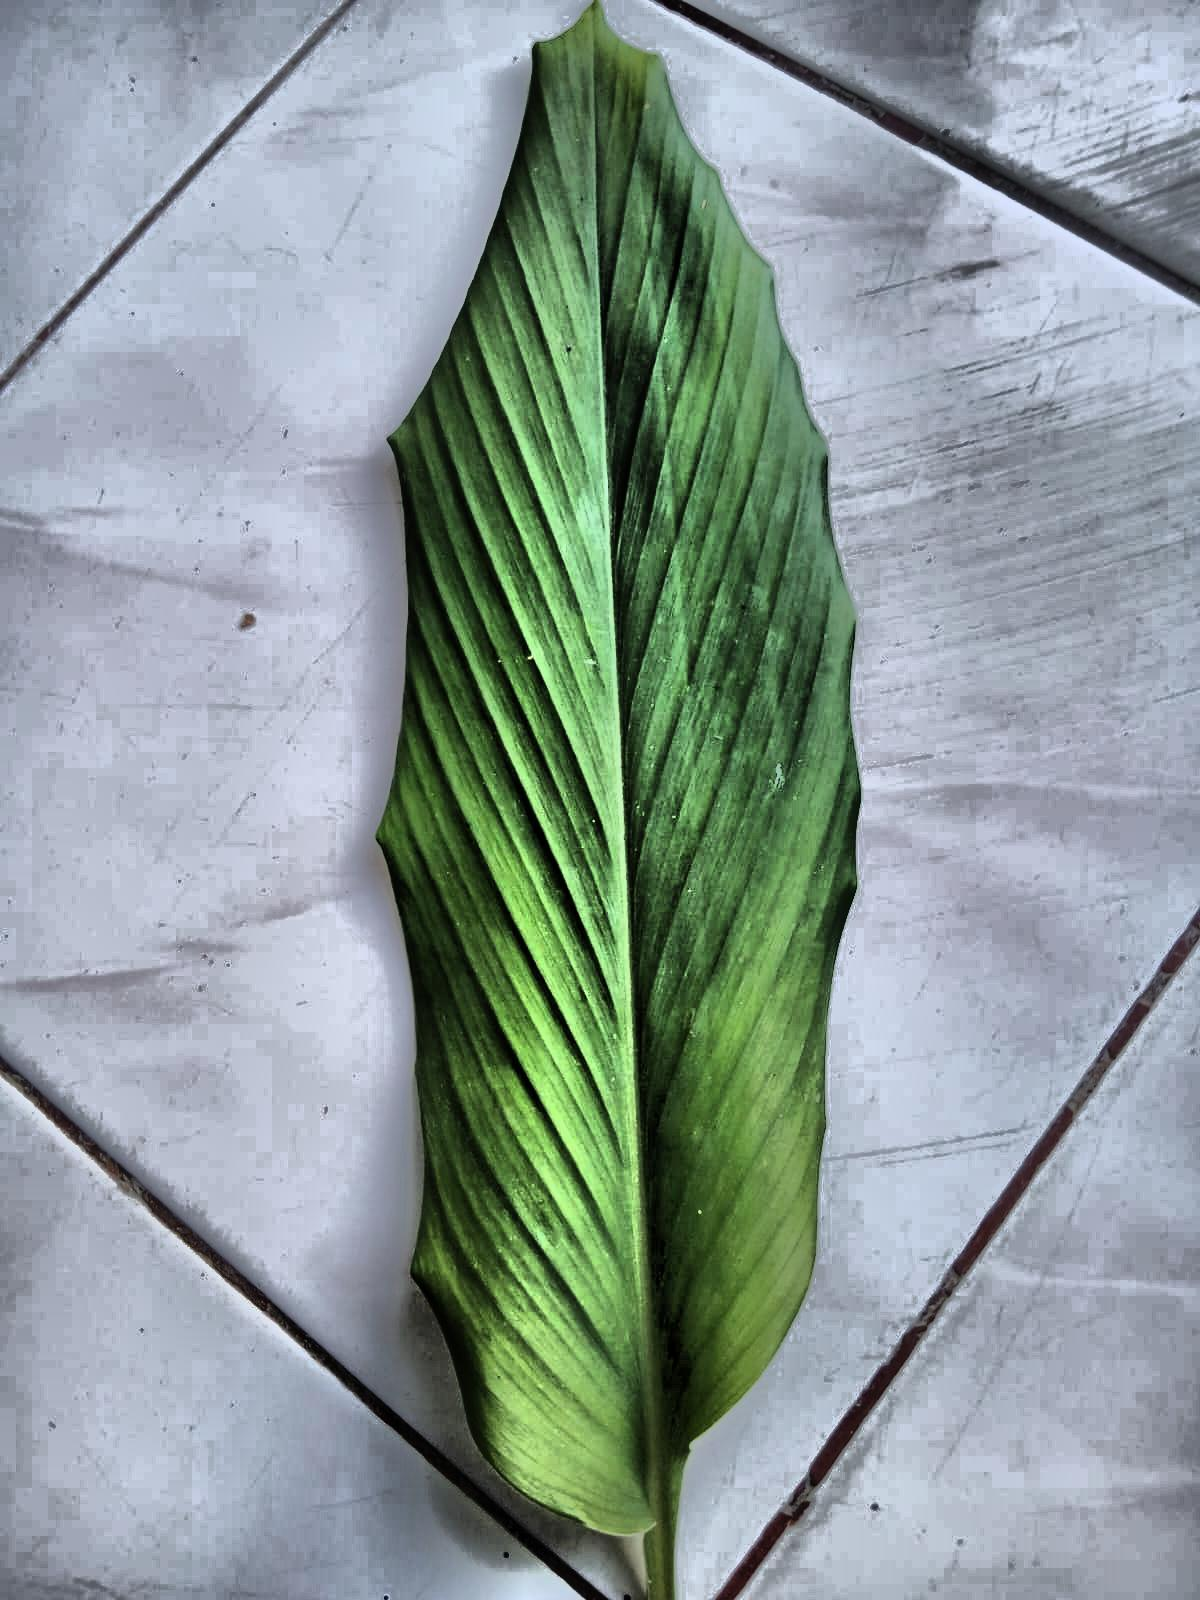daun kunyit: (377, 0, 860, 1599)
